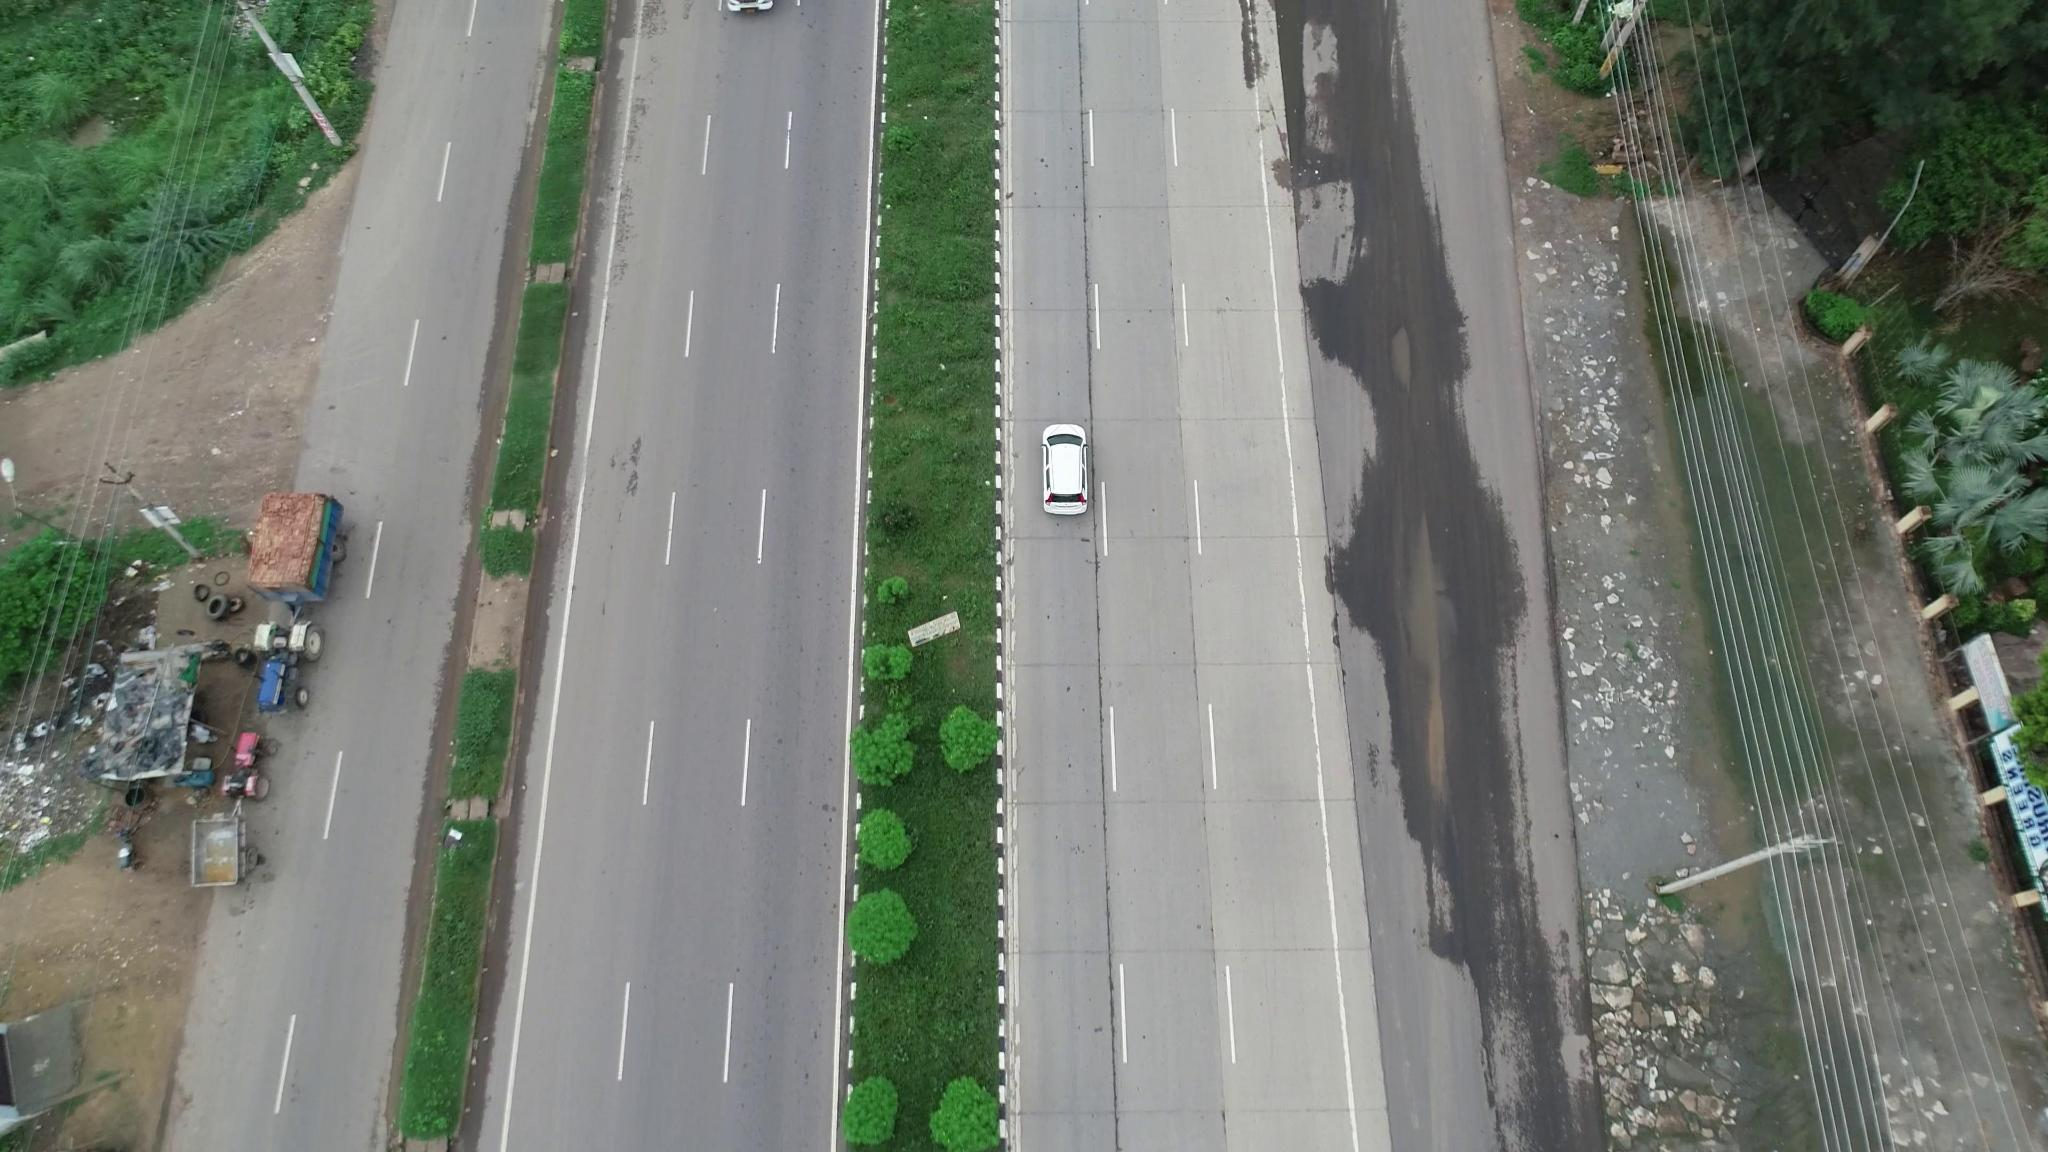Waterlogging: (1374, 316, 1433, 421)
